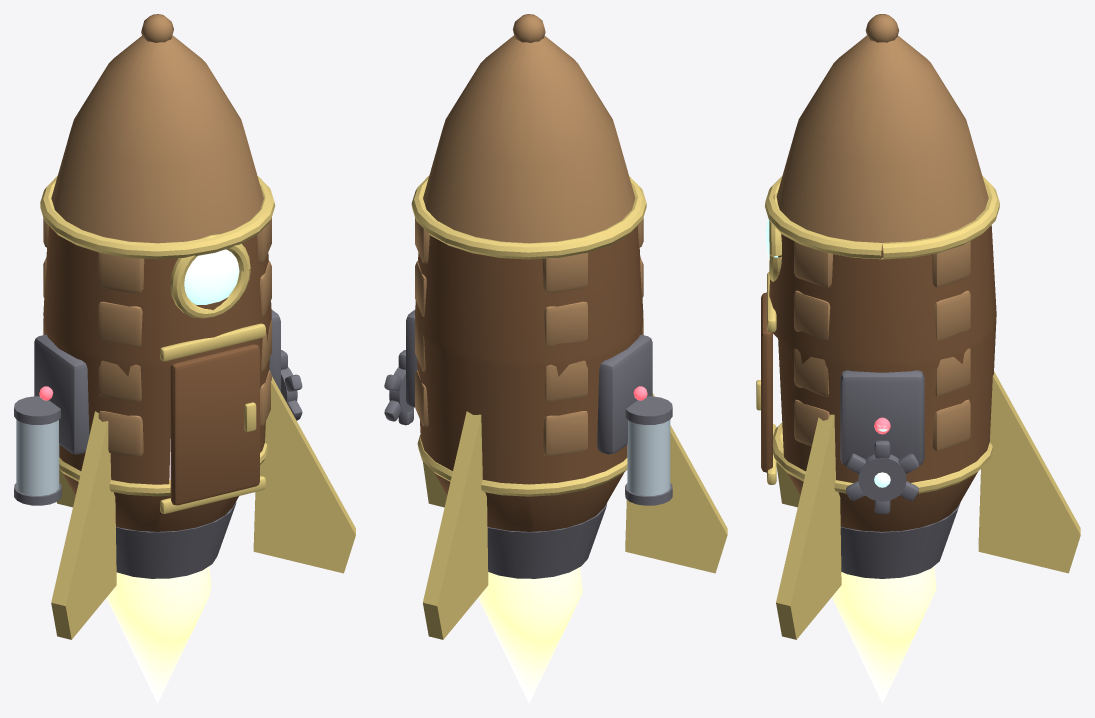
The model's file is SPY_Rocket_ChocolateFactory.fbx.
3 views of the same model, side by side, from view 1: azimuth 30°, elevation 25°; view 2: azimuth 150°, elevation 25°; view 3: azimuth 270°, elevation 25° (orthographic).
Parts seen in each view (by area): view 1: Body, Hatch, Flame, Slot_00_Empty, SpinGear; view 2: Body, Flame, Slot_00_Empty, SpinGear; view 3: Body, Flame, SpinGear, Hatch.
Boxes of the visible parts, <box> form: Body: <box>34,14,355,639</box>; Hatch: <box>170,344,259,505</box>; Flame: <box>106,566,211,703</box>; Slot_00_Empty: <box>14,386,61,505</box>; SpinGear: <box>281,350,302,420</box>; Body: <box>406,14,727,639</box>; Flame: <box>478,567,582,703</box>; Slot_00_Empty: <box>625,386,672,505</box>; SpinGear: <box>384,350,414,425</box>; Body: <box>764,14,1080,639</box>; Flame: <box>832,566,936,703</box>; SpinGear: <box>846,440,918,514</box>; Hatch: <box>756,292,772,472</box>.
Size of the model in its own units: 2.93 by 6.32 by 2.7.
